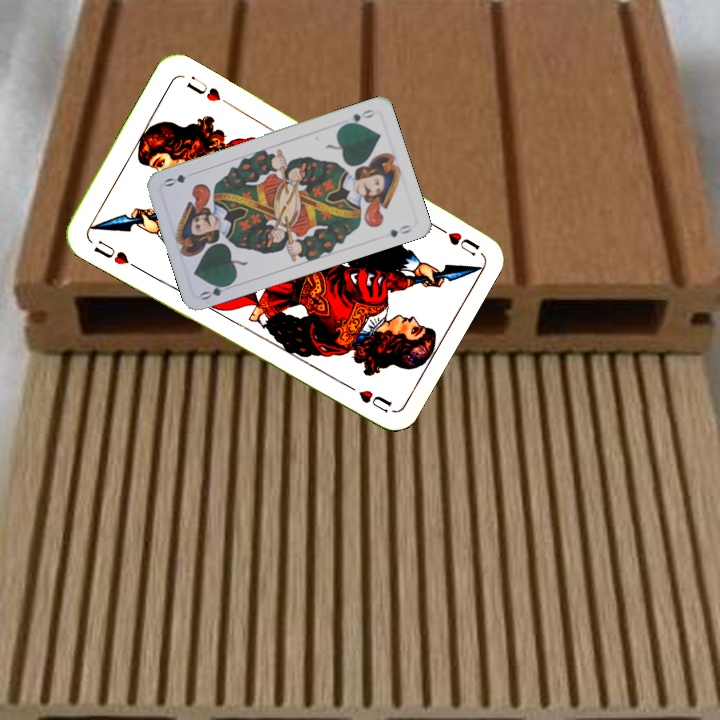GO: (196, 278, 235, 303), (339, 105, 377, 128)
HU: (428, 219, 482, 259), (89, 236, 139, 271)
